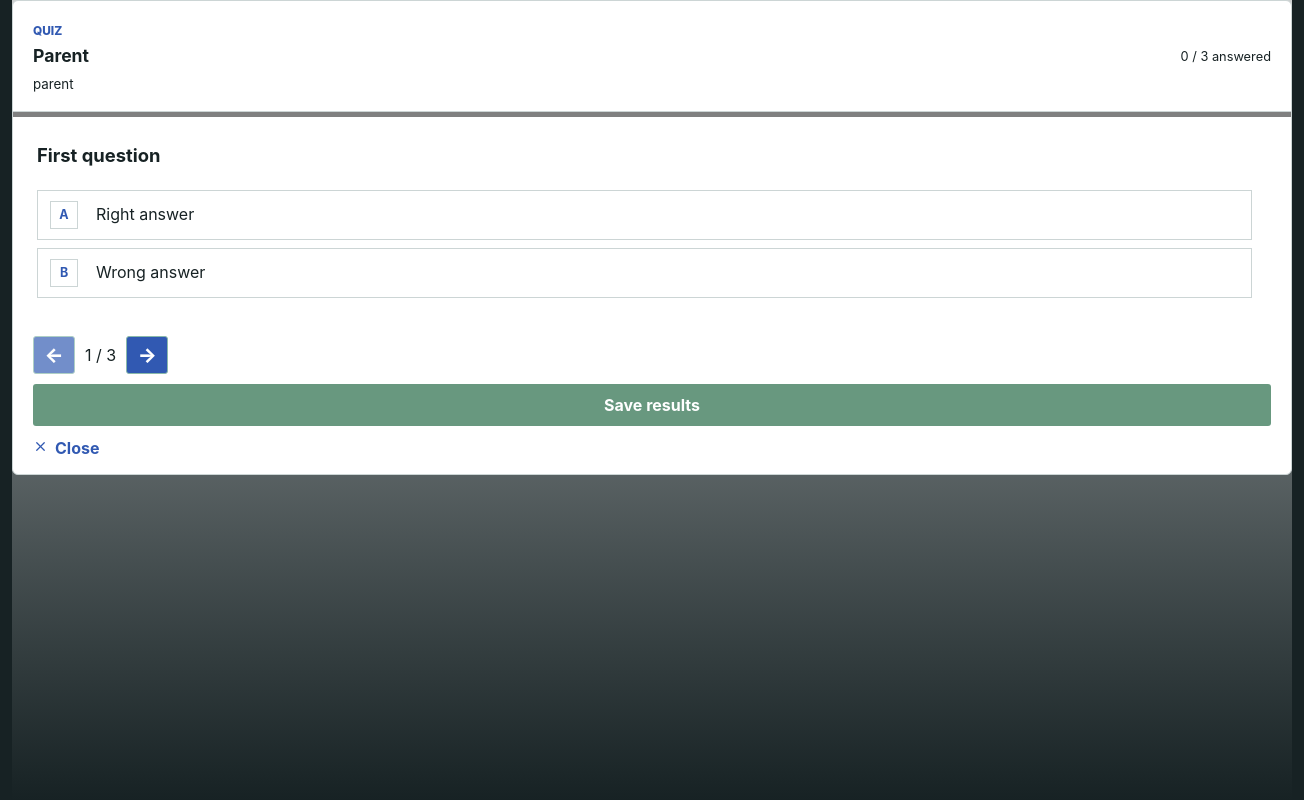
Scenario: Wiki practice player › shows one question, locks the first answer and credits the owning child page
expect the heading "First question" is shown: met, box top-left (37, 144), bottom-right (160, 166)
expect the text "Second question" is not shown: met
Click the button "B Wrong answer".
click(151, 272)  # box top-left (37, 248), bottom-right (1252, 298)
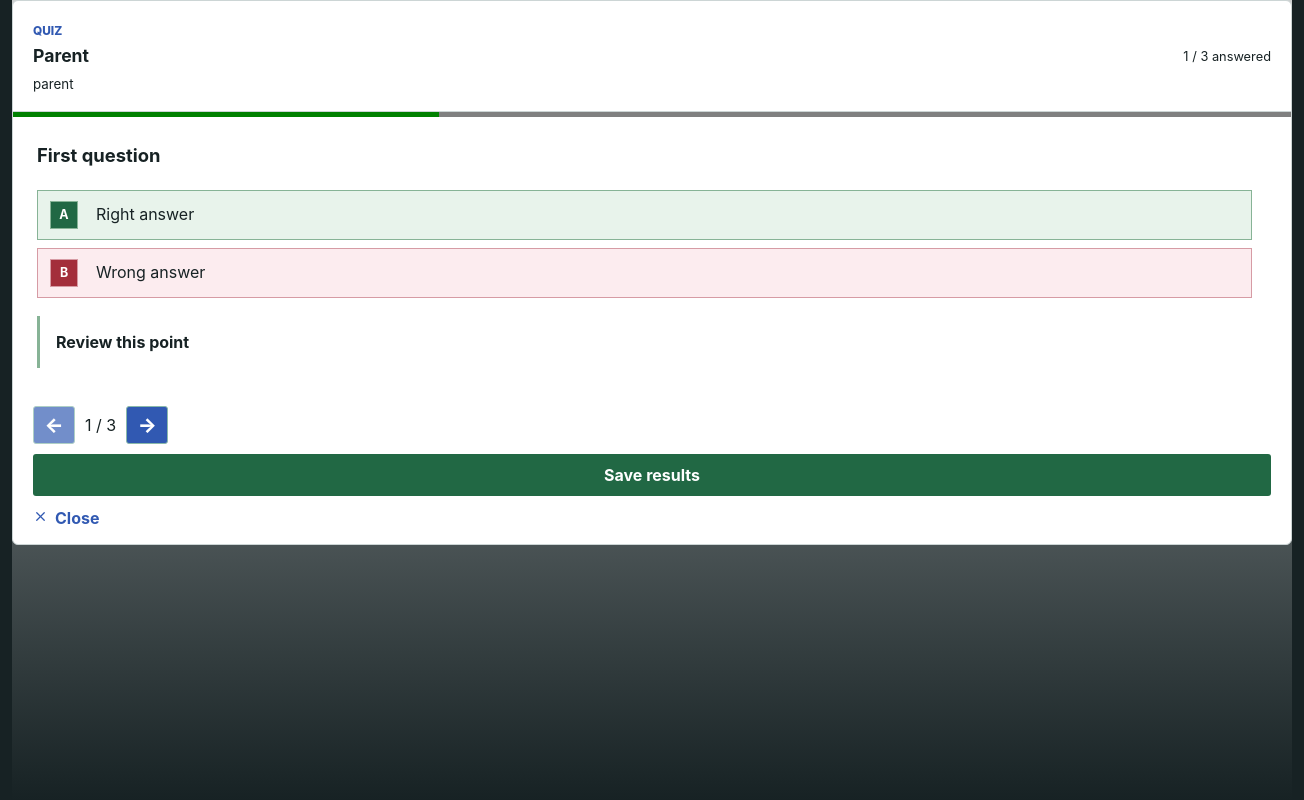
expect the button "A Right answer" is disabled: met, box top-left (37, 190), bottom-right (1252, 240)
Click the button named "Next check".
click(147, 425)  # box top-left (126, 406), bottom-right (168, 444)
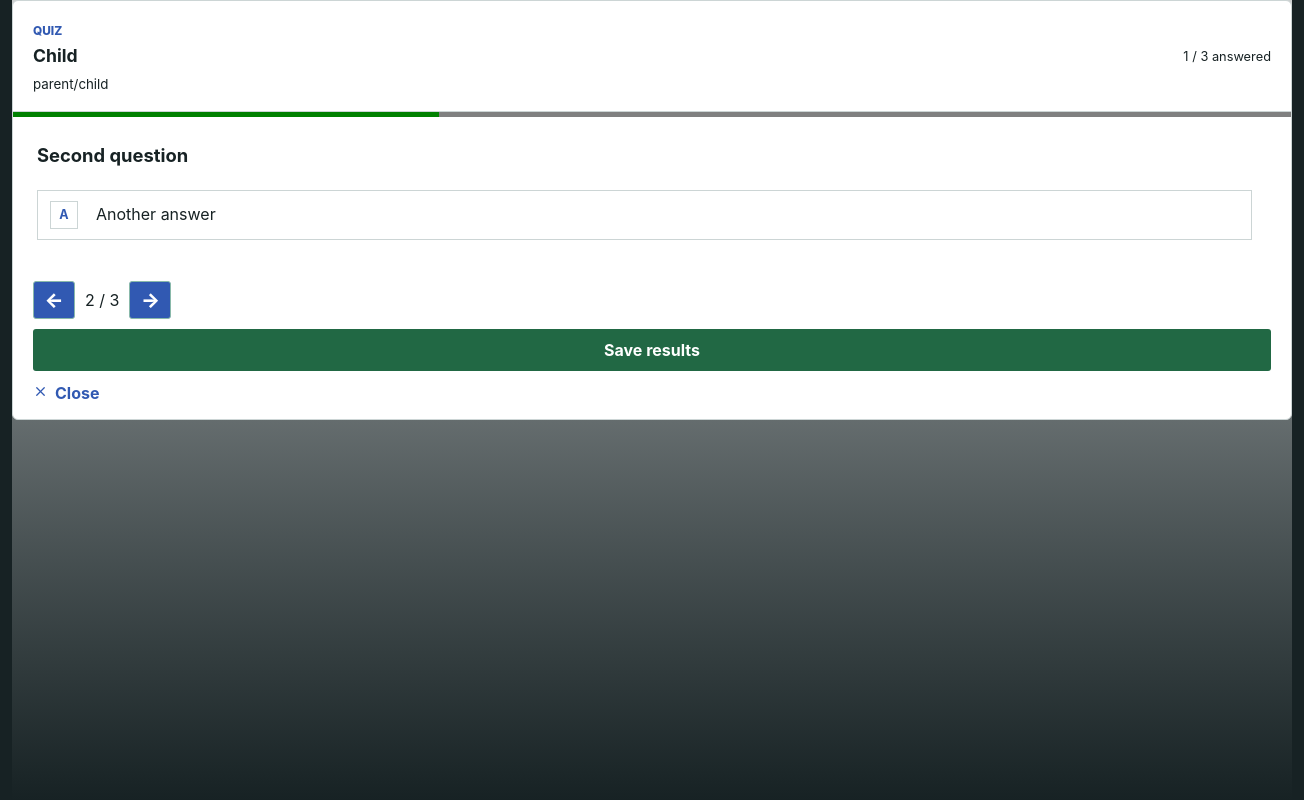
Click the button "A Another answer".
click(156, 214)  # box top-left (37, 190), bottom-right (1252, 240)
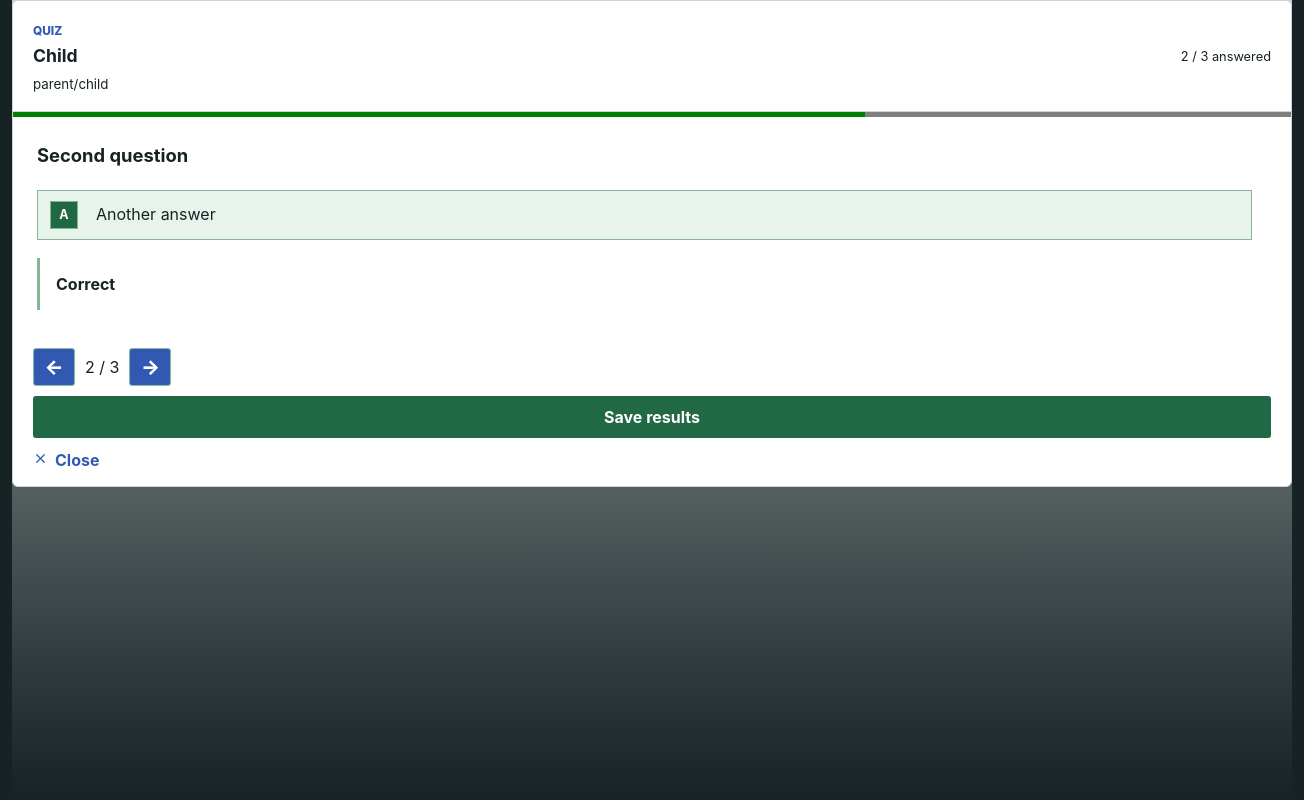
Click the button "Save results".
click(652, 417)  # box top-left (33, 396), bottom-right (1271, 438)
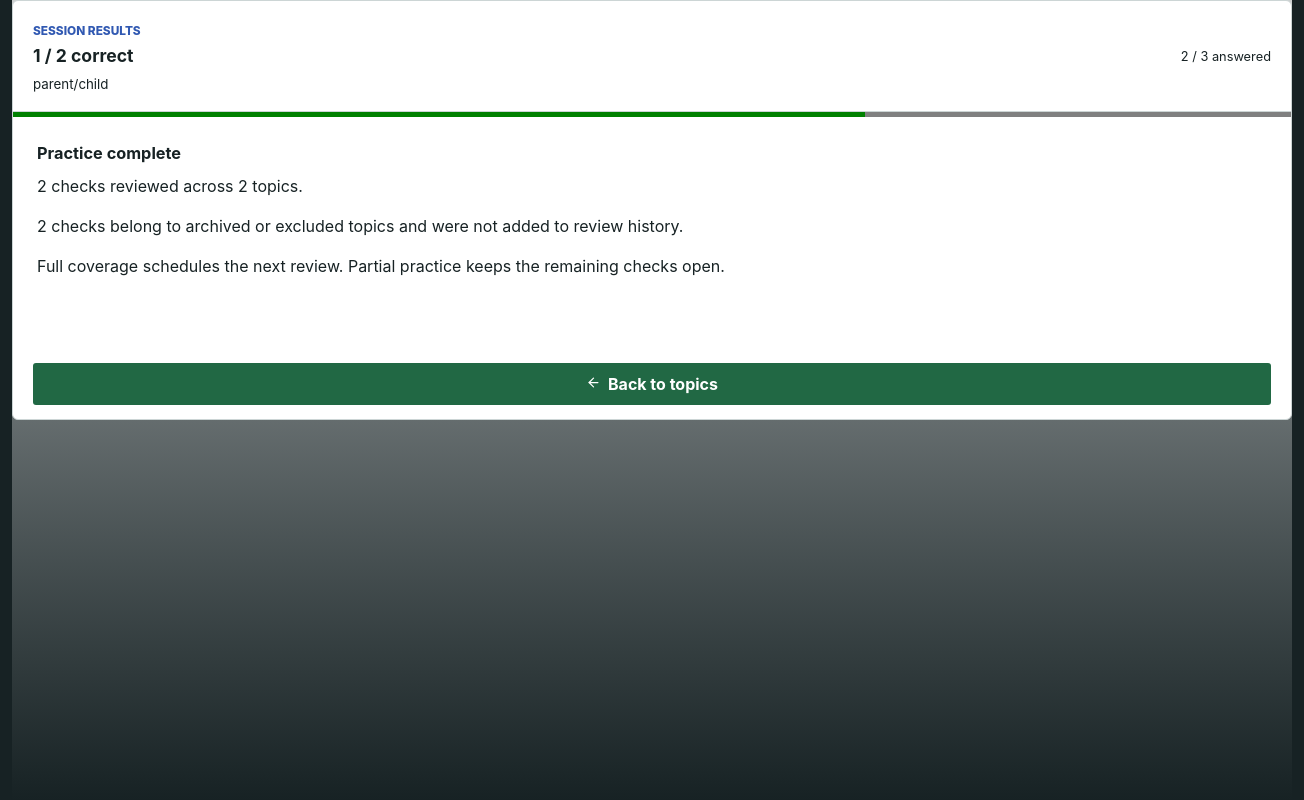
expect the heading "1 / 2 correct" is shown: met, box top-left (33, 43), bottom-right (141, 69)
